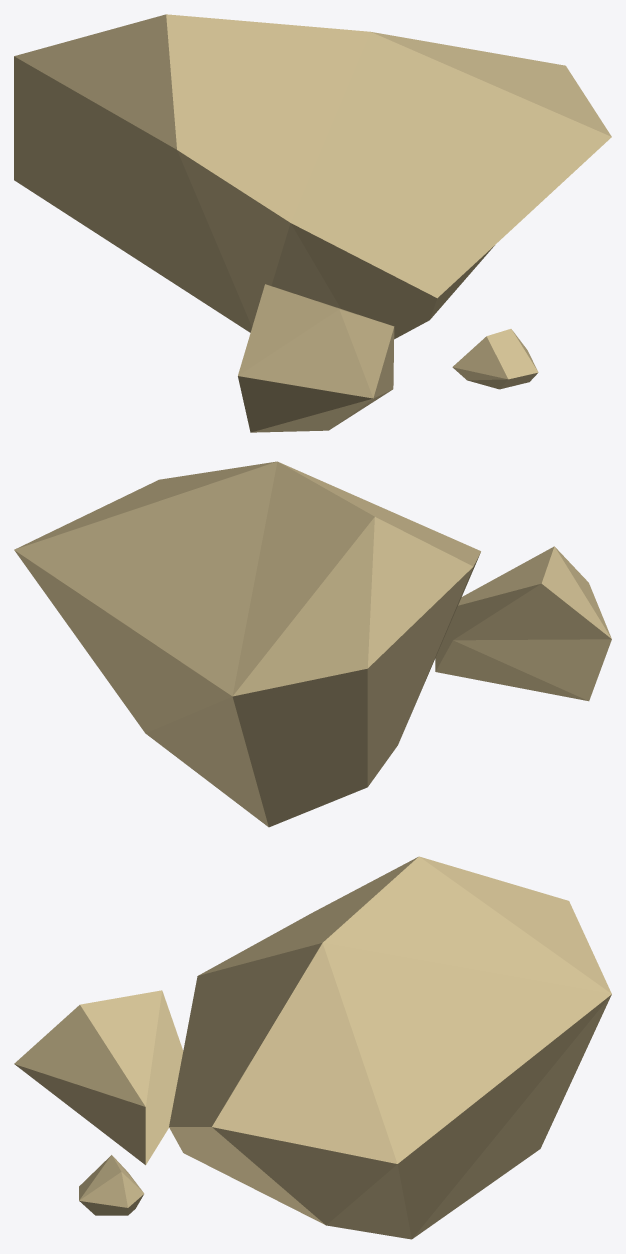
Rendered from marsrock2.glb.
3 renders of one model, top to bottom at view 1: azimuth 30°, elevation 25°; view 2: azimuth 150°, elevation 25°; view 3: azimuth 270°, elevation 25°, orthographic. The views are drawn at different scales.
Visible parts, largest first — view 1: Stones; view 2: Stones; view 3: Stones.
Boxes of the visible parts, x1,y1,x2,y2 form: Stones: (14,14,611,432); Stones: (14,461,611,827); Stones: (14,856,611,1239).
Size of the model in its own units: 0.0349 by 0.0202 by 0.0404.
